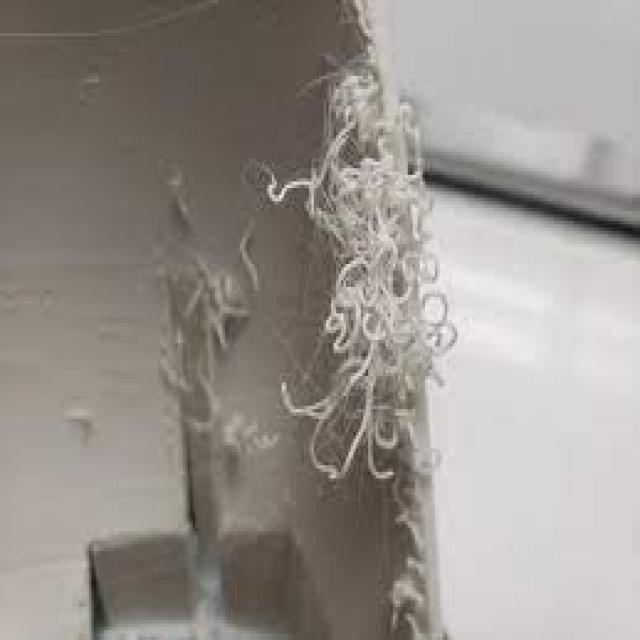spaghetti: (284, 26, 504, 599), (155, 182, 255, 460)
